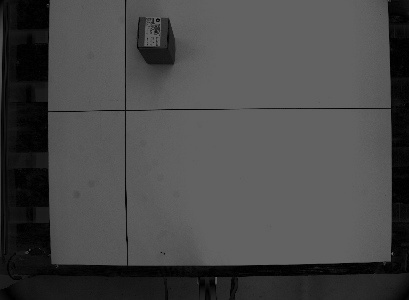b2: (132, 13, 177, 67)
